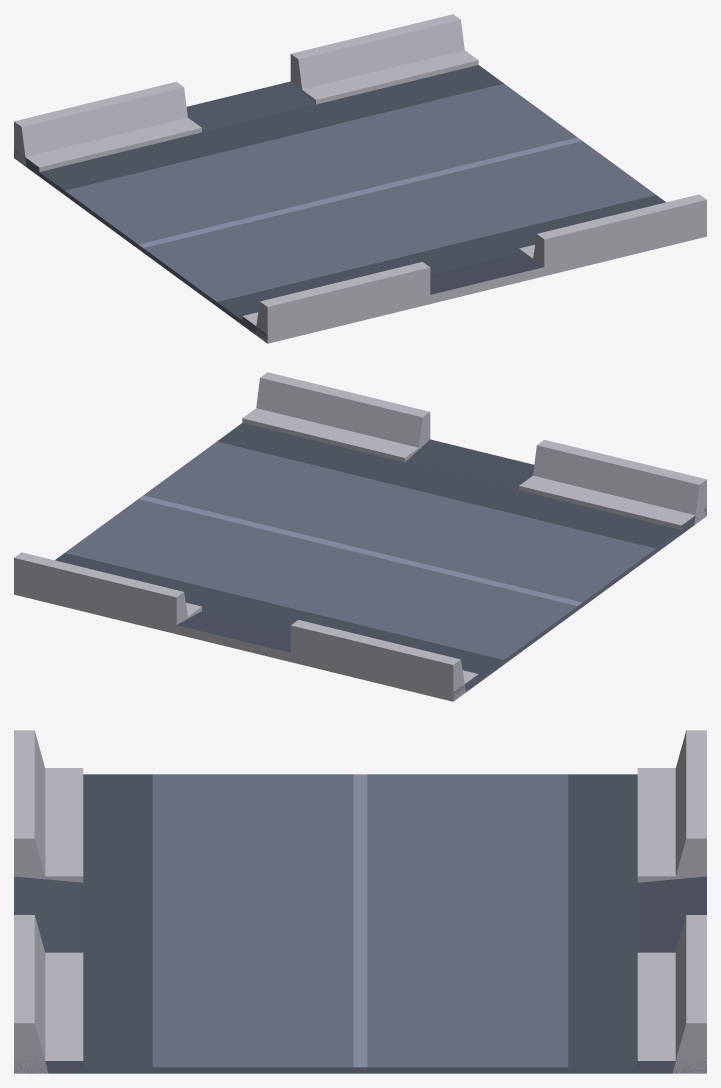
Rendered from road_drivewayDoubleBarrier.glb.
The picture shows the model from 3 angles, top to bottom: view 1: azimuth 30°, elevation 25°; view 2: azimuth 150°, elevation 25°; view 3: azimuth 270°, elevation 25°; orthographic projection. The views are drawn at different scales.
Visible parts, largest first — view 1: road_drivewayDoubleBarrier_01e548, road_drivewayDoubleBarrier_3d7443, road_drivewayDoubleBarrier_ec83a5, road_drivewayDoubleBarrier_564f7c, road_drivewayDoubleBarrier_58423e; view 2: road_drivewayDoubleBarrier_01e548, road_drivewayDoubleBarrier_3d7443, road_drivewayDoubleBarrier_ec83a5, road_drivewayDoubleBarrier_564f7c, road_drivewayDoubleBarrier_58423e; view 3: road_drivewayDoubleBarrier_01e548, road_drivewayDoubleBarrier_ec83a5, road_drivewayDoubleBarrier_3d7443, road_drivewayDoubleBarrier_564f7c, road_drivewayDoubleBarrier_58423e.
Boxes of the visible parts, bbox=[...] form: road_drivewayDoubleBarrier_01e548: bbox=[14, 83, 655, 343]; road_drivewayDoubleBarrier_3d7443: bbox=[14, 14, 706, 343]; road_drivewayDoubleBarrier_ec83a5: bbox=[39, 65, 665, 320]; road_drivewayDoubleBarrier_564f7c: bbox=[26, 50, 706, 342]; road_drivewayDoubleBarrier_58423e: bbox=[138, 137, 581, 247]; road_drivewayDoubleBarrier_01e548: bbox=[65, 441, 706, 700]; road_drivewayDoubleBarrier_3d7443: bbox=[14, 372, 706, 701]; road_drivewayDoubleBarrier_ec83a5: bbox=[55, 423, 681, 678]; road_drivewayDoubleBarrier_564f7c: bbox=[14, 408, 694, 701]; road_drivewayDoubleBarrier_58423e: bbox=[139, 495, 582, 605]; road_drivewayDoubleBarrier_01e548: bbox=[14, 774, 706, 1073]; road_drivewayDoubleBarrier_ec83a5: bbox=[14, 774, 706, 1067]; road_drivewayDoubleBarrier_3d7443: bbox=[14, 730, 706, 1073]; road_drivewayDoubleBarrier_564f7c: bbox=[45, 768, 675, 1060]; road_drivewayDoubleBarrier_58423e: bbox=[353, 774, 367, 1067].
Bounding box in the file's own units: 1 × 0.08 × 1.
